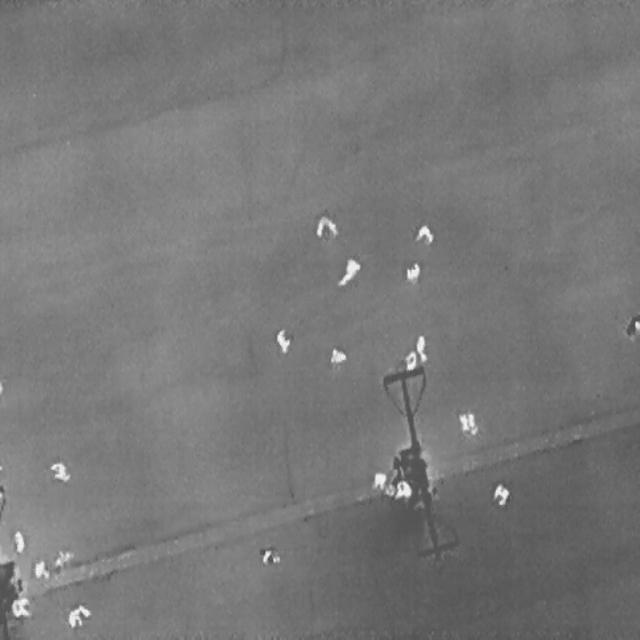Person: (331, 250, 363, 291), (66, 602, 90, 628), (313, 212, 337, 238), (47, 460, 71, 484), (490, 479, 511, 506), (624, 308, 639, 340), (257, 545, 282, 564), (414, 220, 433, 244), (328, 344, 347, 366), (274, 328, 290, 352), (10, 596, 29, 616), (395, 479, 411, 500), (31, 560, 48, 579), (416, 330, 426, 362), (405, 262, 420, 282), (11, 530, 25, 551), (402, 350, 416, 369), (373, 469, 385, 490), (467, 412, 476, 436), (456, 411, 467, 430)
